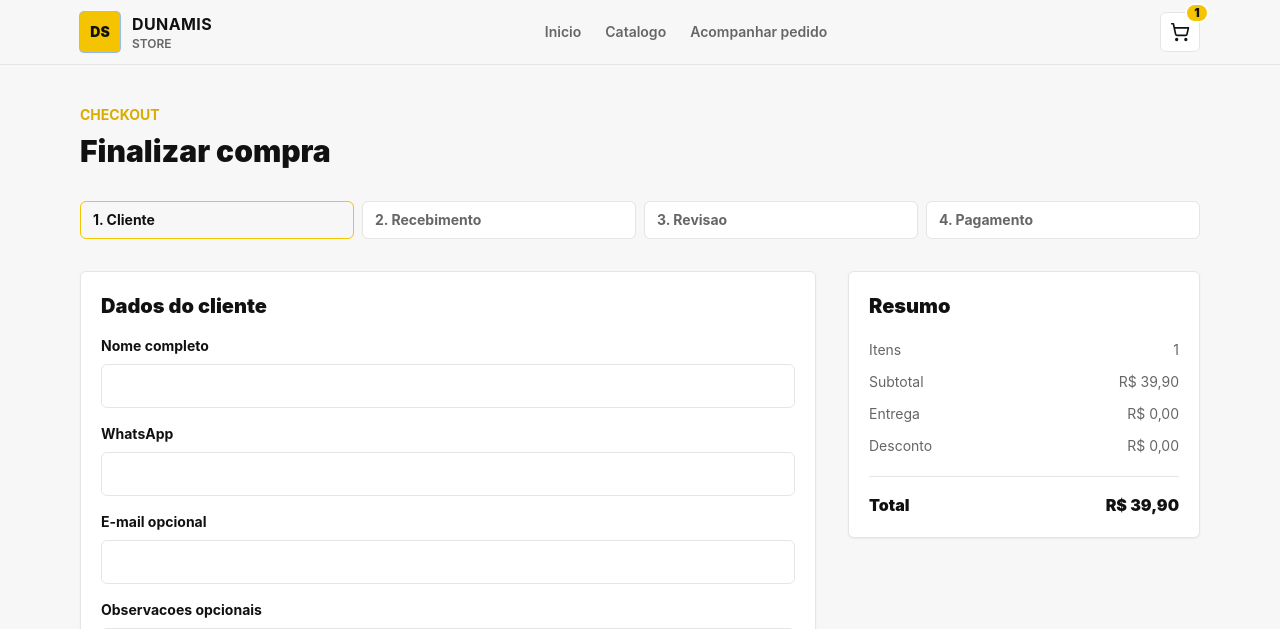
Test: CheckoutPage › advances through customer and pickup steps
Type "Ana Souza" into the field labelled "Nome completo" at (448, 386), box [101, 364, 795, 408]
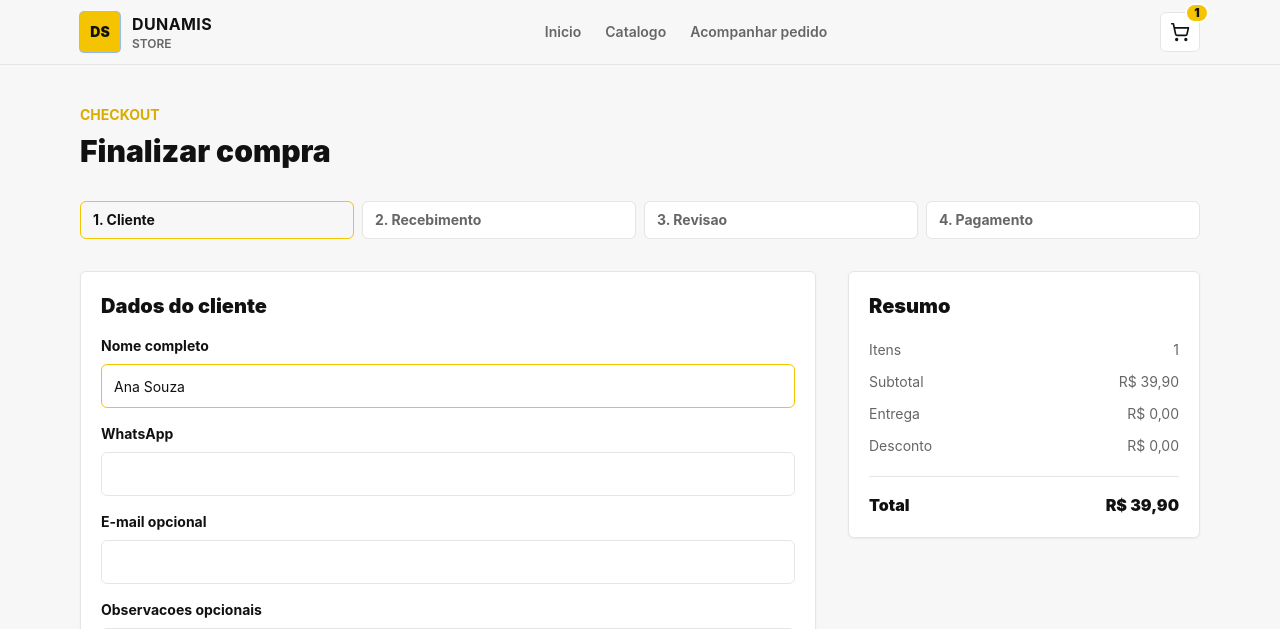
Type "11990000001" into the field labelled "WhatsApp" at (448, 474), box [101, 452, 795, 496]
(page scrolled)
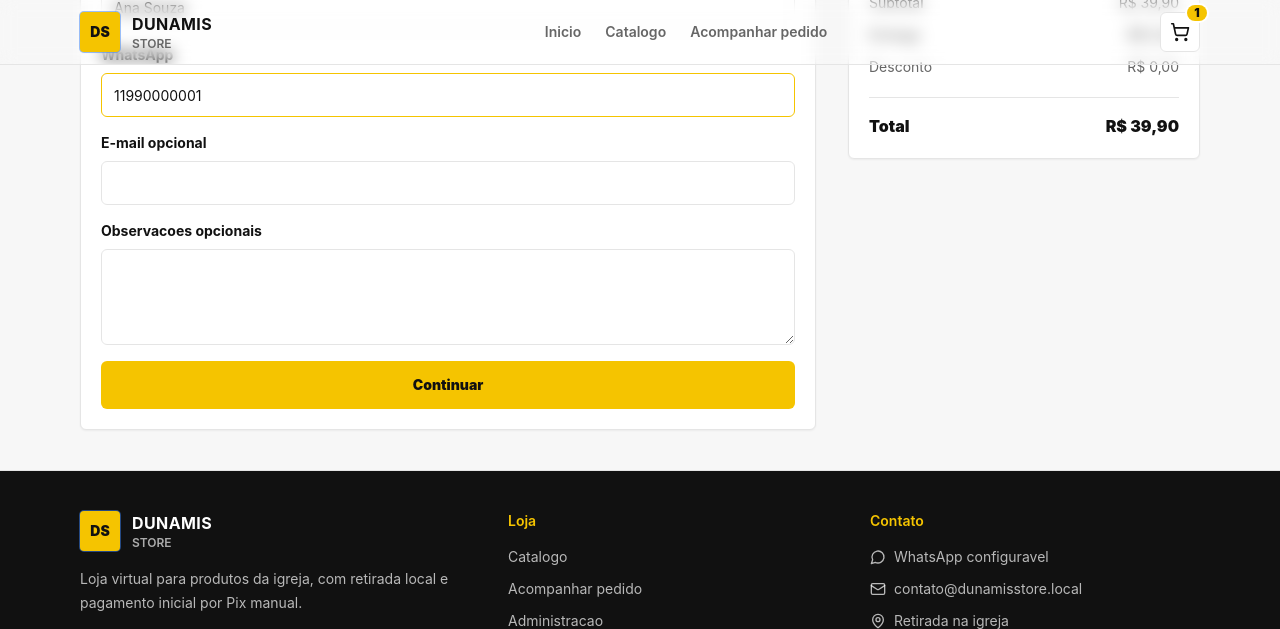
Click the button "Continuar" at (448, 385), box [101, 361, 795, 409]
(page scrolled)
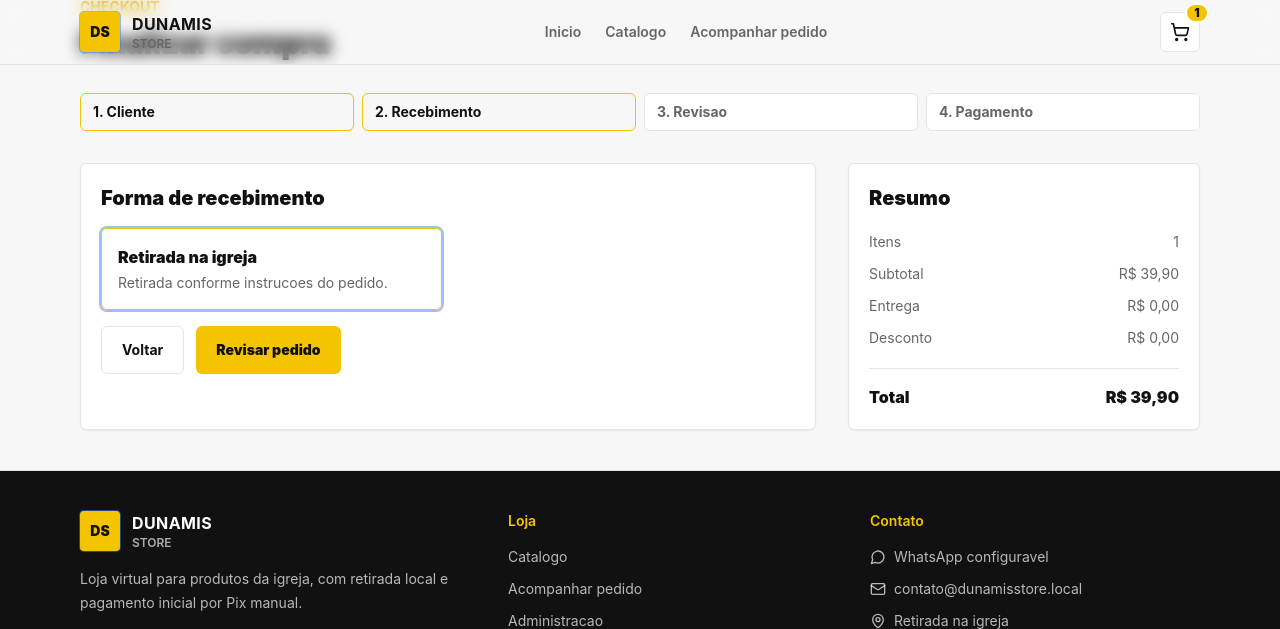
Now the heading "Forma de recebimento" is shown, box [101, 186, 325, 210]
Click the button "Revisar pedido" at (268, 350), box [196, 326, 341, 374]
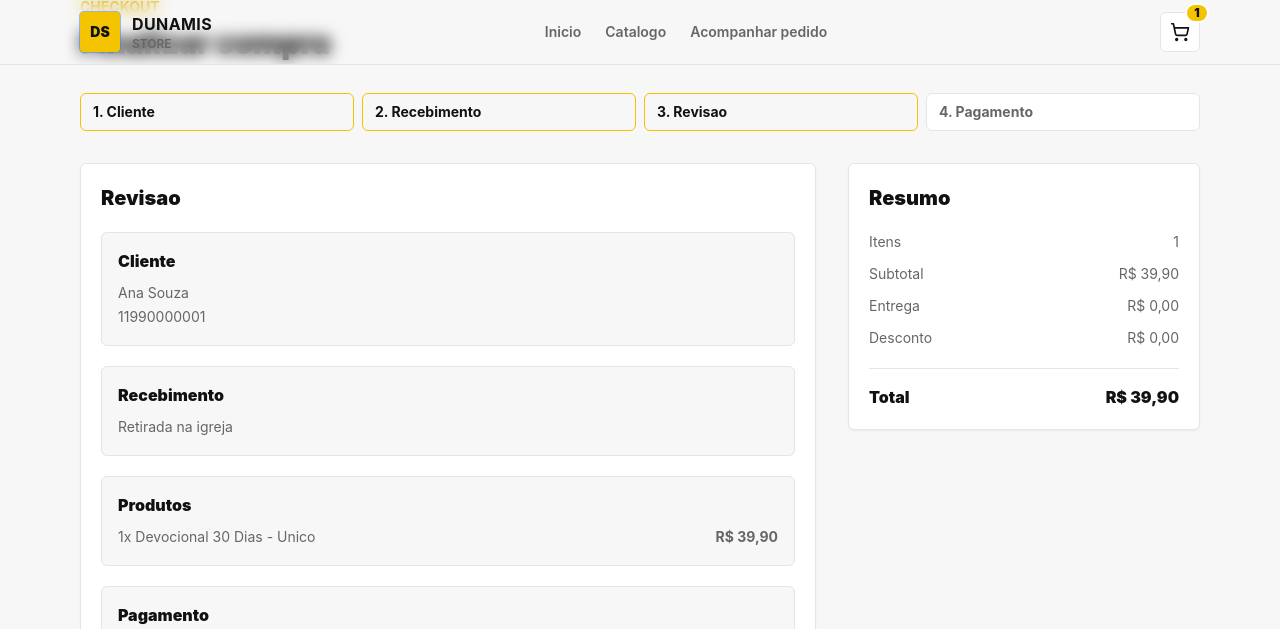
Now the heading "Revisao" is shown, box [101, 186, 181, 210]
Now the text "1x Devocional 30 Dias - Unico" is shown, box [118, 525, 316, 549]
